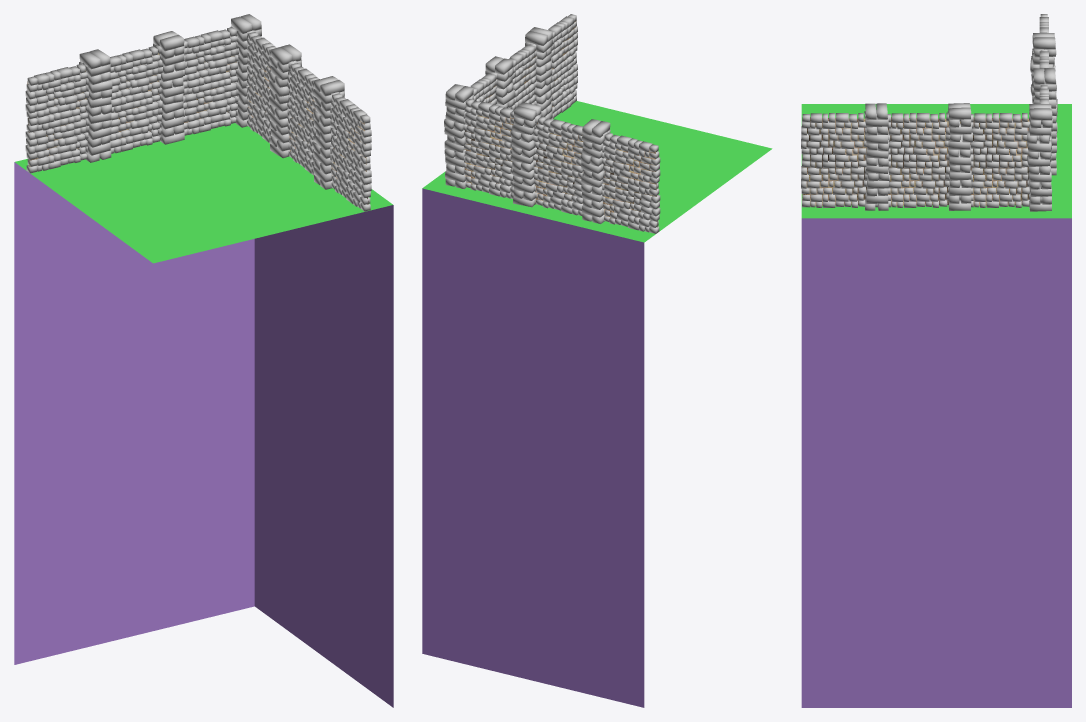
The model's file is RoomCornder_2.Lod1.fbx.
The picture shows the model from 3 angles, left to right: view 1: azimuth 30°, elevation 25°; view 2: azimuth 150°, elevation 25°; view 3: azimuth 270°, elevation 25°; orthographic projection. The views are drawn at different scales.
Parts seen in each view (by area): view 1: RoomCornder_2.Lod1; view 2: RoomCornder_2.Lod1; view 3: RoomCornder_2.Lod1.
Part boxes in pixels (bbox=[...]): RoomCornder_2.Lod1: bbox=[14, 14, 393, 707]; RoomCornder_2.Lod1: bbox=[422, 14, 772, 707]; RoomCornder_2.Lod1: bbox=[801, 14, 1071, 707].
Size of the model in its own units: 401 by 961 by 401.
